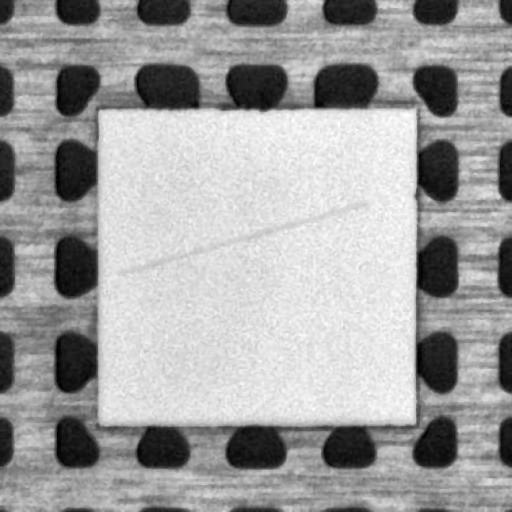DIE_CRACK: (116, 203, 364, 274)
